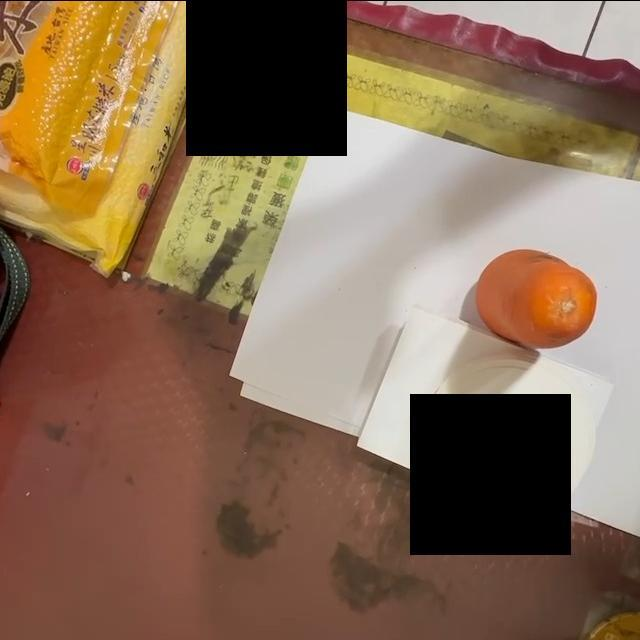carrot: (478, 248, 595, 349)
